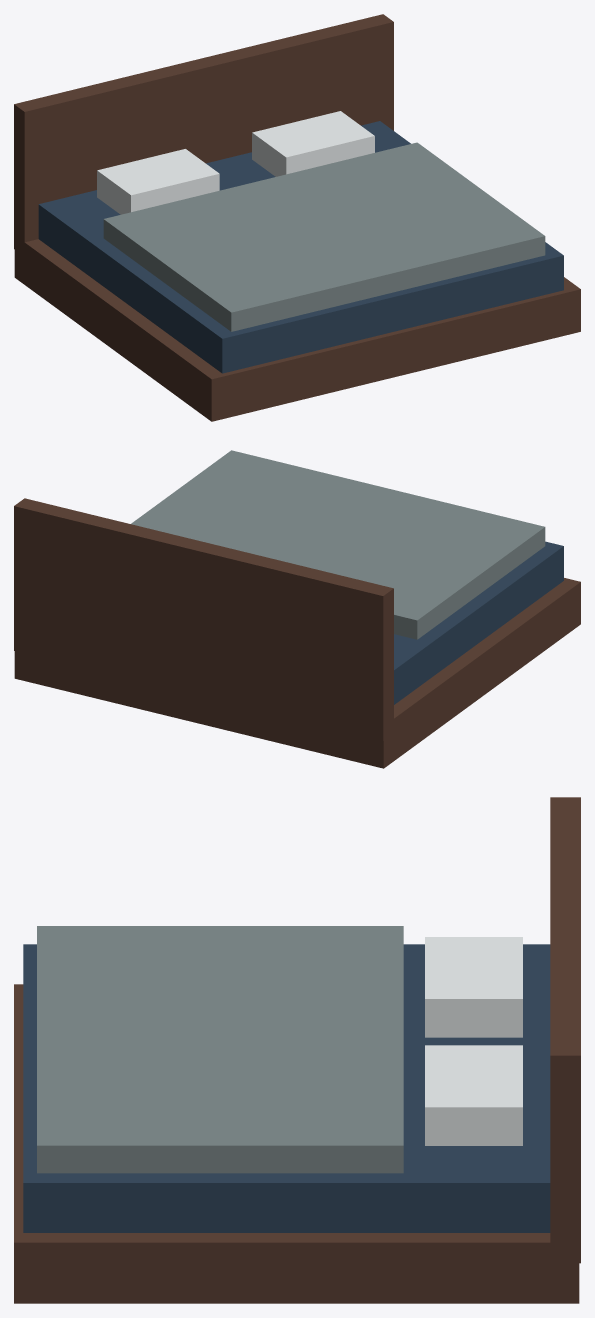
File: bed.glb
3 views of the same model, one above another, from view 1: azimuth 30°, elevation 25°; view 2: azimuth 150°, elevation 25°; view 3: azimuth 270°, elevation 25° (orthographic). The views are drawn at different scales.
Parts seen in each view (by area): view 1: bed; view 2: bed; view 3: bed.
Part boxes in pixels (bbox=[...]): bed: bbox=[14, 14, 580, 421]; bed: bbox=[14, 450, 580, 768]; bed: bbox=[14, 797, 580, 1303].
Size of the model in its own units: 2 by 0.895 by 1.86.
